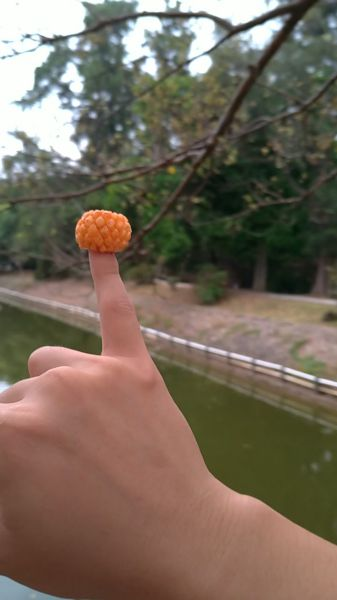eggs: (74, 209, 131, 253)
